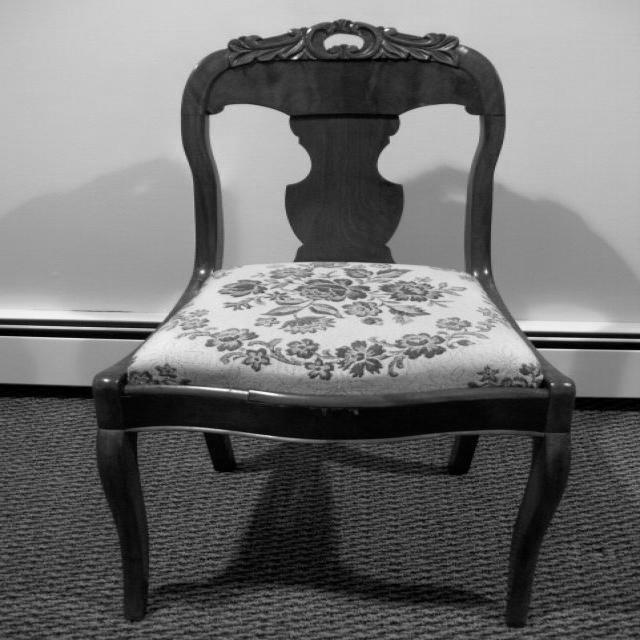chair: (89, 13, 581, 627)
